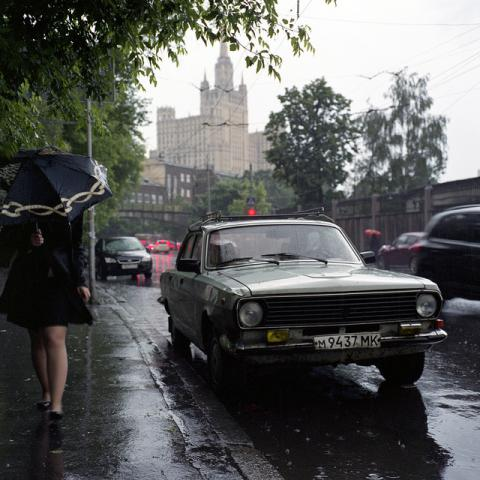car: (158, 206, 448, 396), (407, 203, 479, 303), (95, 236, 154, 282), (376, 232, 428, 274), (145, 240, 169, 254)
